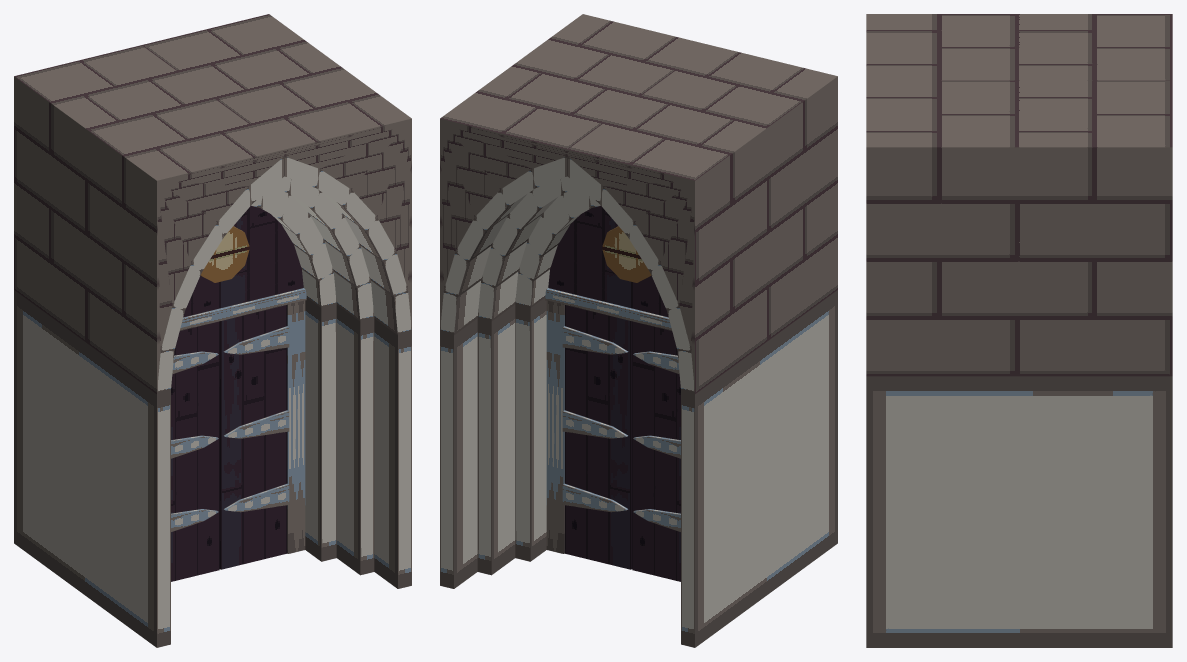
Rendered from door_boss.glb.
3 views of the same model, side by side, from view 1: azimuth 30°, elevation 25°; view 2: azimuth 150°, elevation 25°; view 3: azimuth 270°, elevation 25° (orthographic). The views are drawn at different scales.
Visible parts, largest first — view 1: portal, leaf_a, leaf_b; view 2: portal, leaf_a, leaf_b; view 3: portal.
Part boxes in pixels (x1,y1,x2,y2): portal: (14,14,411,647); leaf_a: (219,305,289,569); leaf_b: (171,321,219,581); portal: (440,14,837,647); leaf_a: (562,305,632,569); leaf_b: (632,321,680,581); portal: (866,14,1172,647).
Size of the model in its own units: 2 by 3.5 by 1.94.
1 material, 1 textured.
